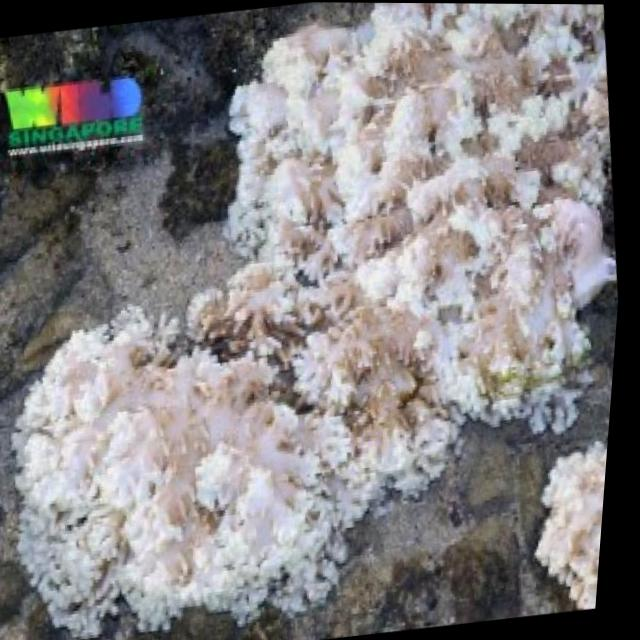Bleached Coral: (159, 1, 640, 462), (0, 257, 395, 640), (533, 429, 615, 613)
